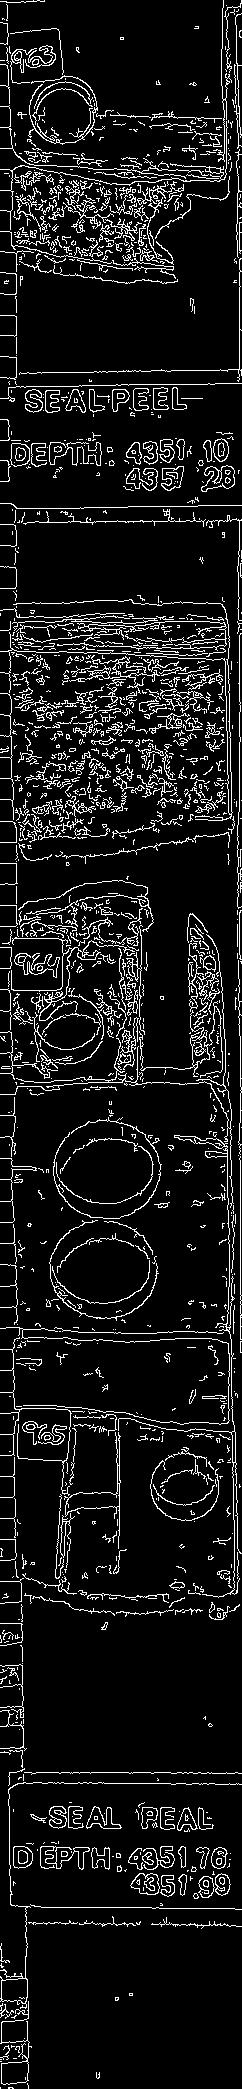hplug: (144, 1450, 223, 1529), (27, 75, 110, 151), (31, 993, 109, 1067), (142, 185, 194, 269)
scal: (47, 1116, 161, 1219), (47, 1220, 161, 1322)
vplug: (114, 898, 202, 1091), (55, 1404, 129, 1591)
